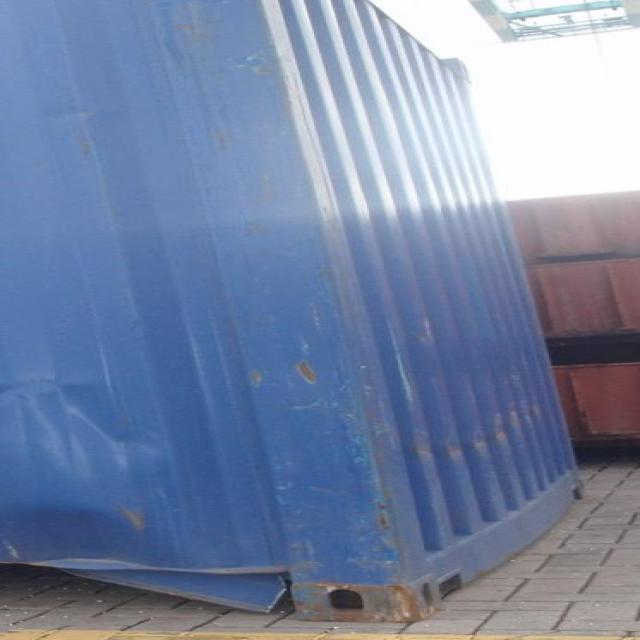dent: (6, 361, 288, 540), (3, 547, 313, 630)
